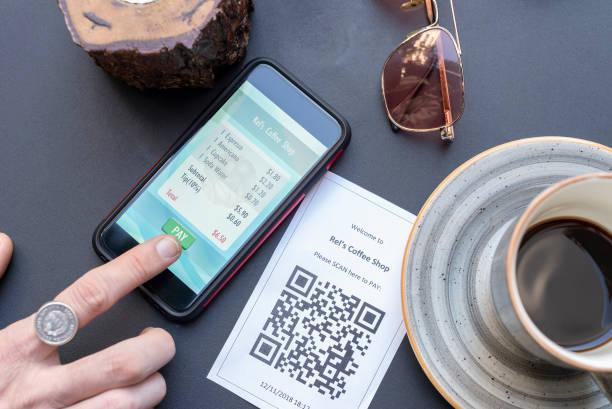Finder pattern: (351, 299, 387, 336), (282, 265, 320, 299), (247, 332, 282, 368)
